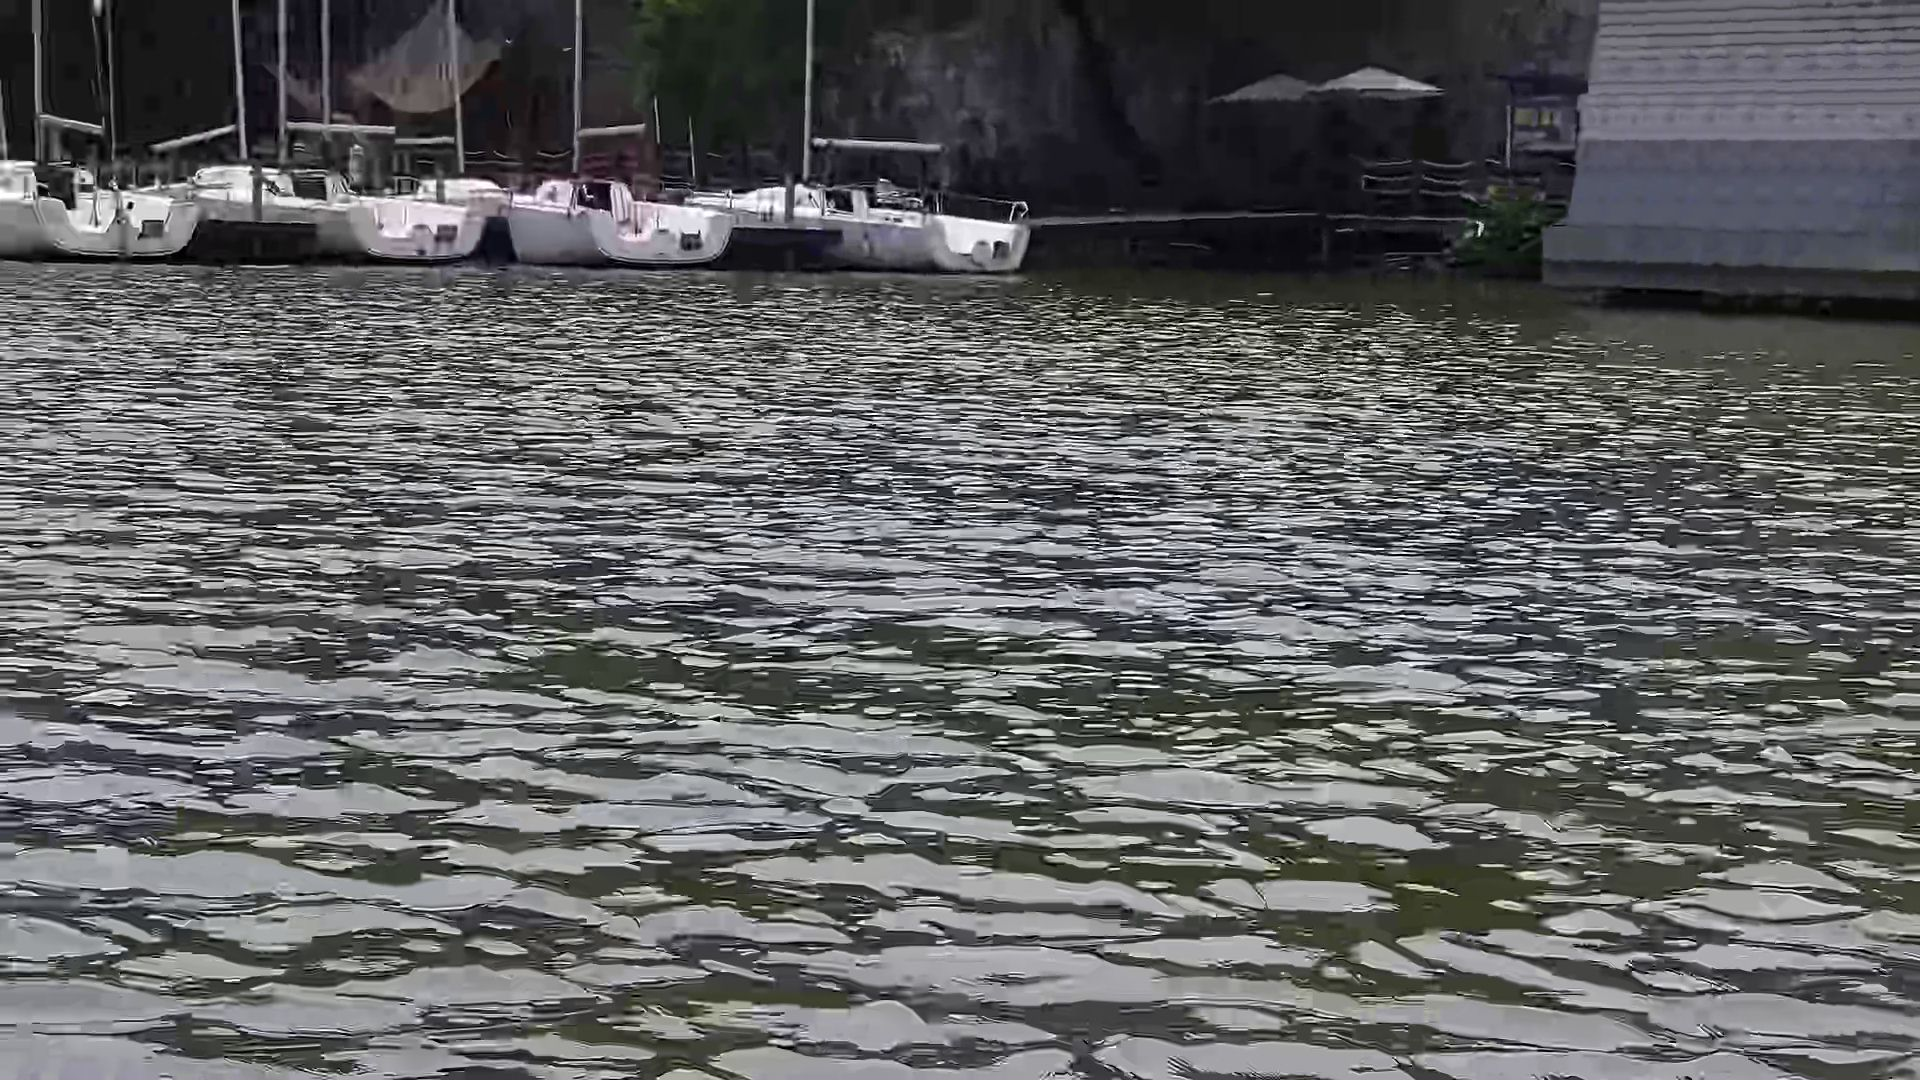boat: (670, 1, 1047, 284), (411, 1, 742, 280), (178, 1, 498, 274), (1, 1, 214, 273)
